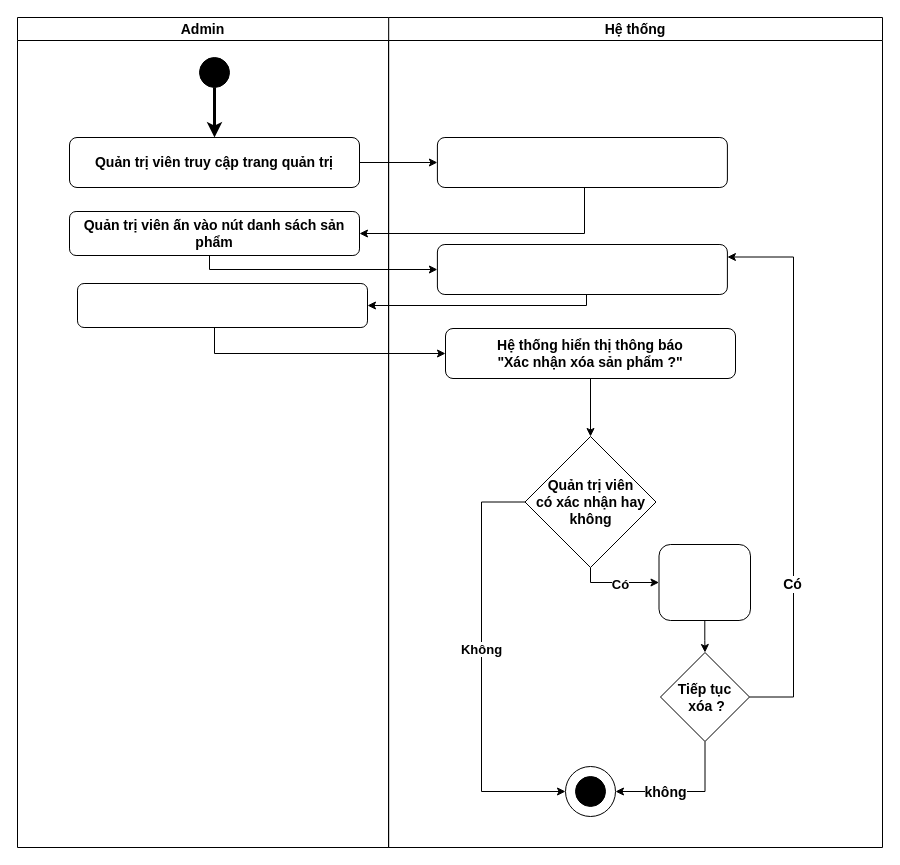
Some shapes in this 900 by 865 pixel diagram are drawn without their labels. The shapes that lost their labels are listed below. From the top down, each one's centre as x and y in pixels, then its label:
[581,162]: Hệ thống hiển trị trang dành cho quản trị viên
[581,269]: Hệ Thống hiển thị trang danh sách sản phẩm của quản trị viên
[222,305]: Tại sản phẩm cần xóa , quản trị viên ấn vào nút "Xóa sản phẩm"
[704,582]: Hệ thống xóa thông tin sản phẩm
